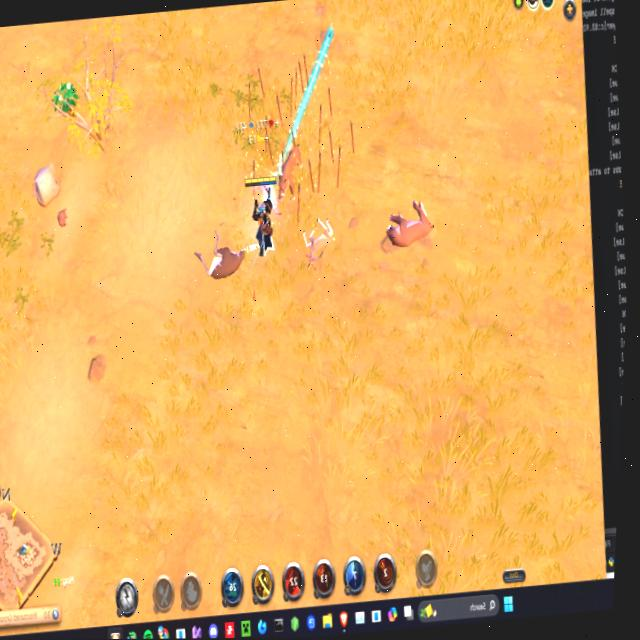hide: (51, 75, 80, 120)
mob: (188, 225, 252, 285), (380, 193, 441, 249), (295, 210, 340, 270)
ore: (269, 138, 310, 205)
red: (242, 171, 284, 258)
